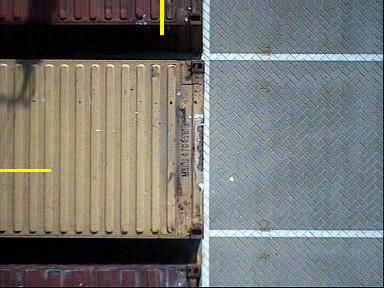groundmarker_2: (191, 164, 241, 238)
